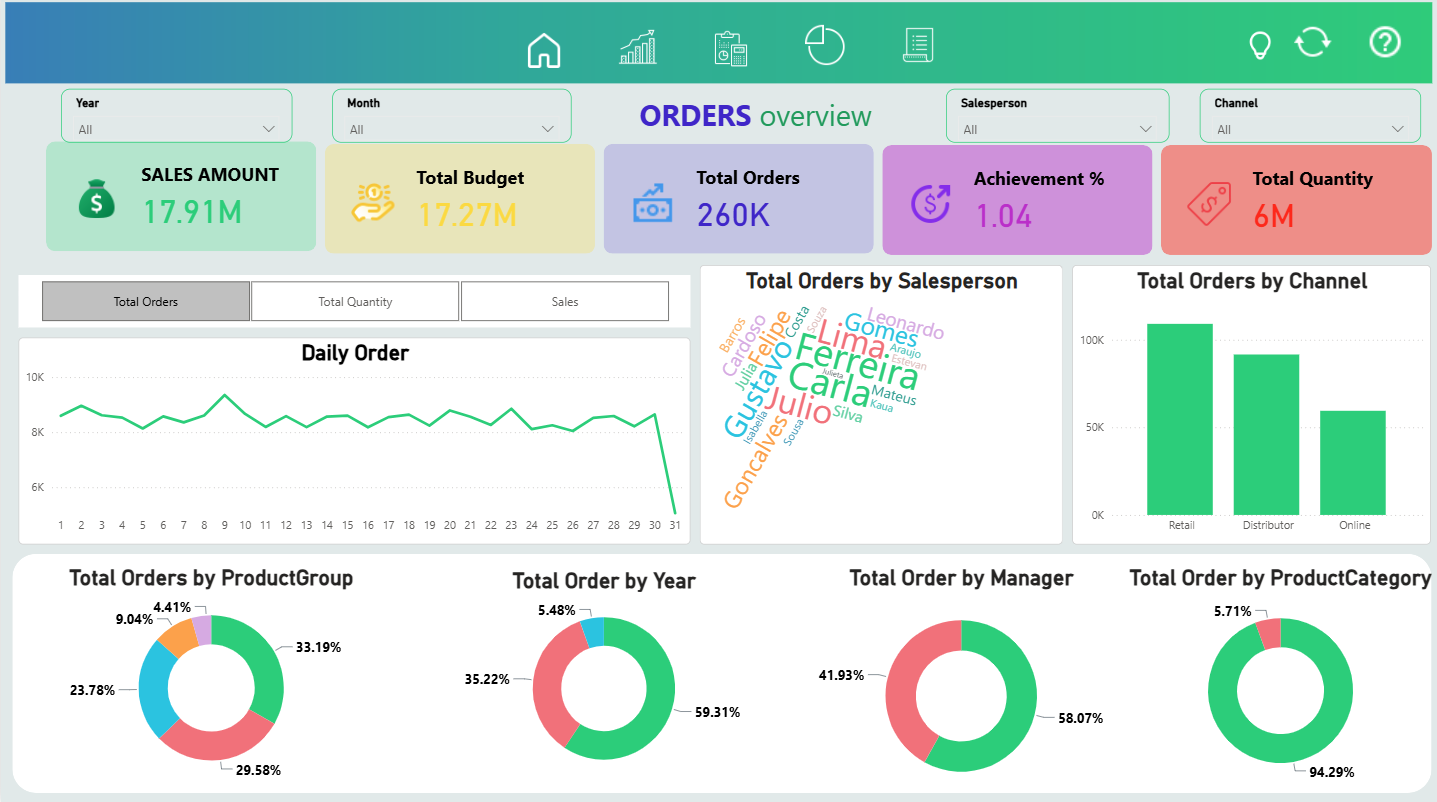

This screenshot's page, from the dashboard's own definition file:
{"tool":"powerbi","page":{"name":"Orders Analysis","canvas":[1600,900],"ordinal":4},"visuals":[{"type":"shape","box":[12,622.4,1580.1,266.3],"z":0},{"type":"group","id":"g1","title":"Group 1","box":[49.7,163.1,301.8,122.5],"z":1000},{"type":"shape","box":[49.7,163.1,301,122.5],"z":1000,"group":"g1"},{"type":"shape","box":[360.4,165.2,301,122.5],"z":1000,"group":"g2"},{"type":"image","box":[0,0,1599.4,106.5],"z":2000},{"type":"shape","box":[671,165.4,301,122.5],"z":2000,"group":"g3"},{"type":"image","box":[72.8,195.1,65.7,67.5],"z":2000,"group":"g1"},{"type":"group","id":"g2","title":"Group 2","box":[360.4,165.2,301,122.5],"z":3000},{"type":"shape","box":[980.9,166.7,301,122.5],"z":3000,"group":"g4"},{"type":"cardVisual","title":"SALES","fields":{"Data":["Sum(SalesData.SalesAmount)"]},"box":[138.5,163.1,213,122.5],"z":3500,"group":"g1"},{"type":"group","id":"g3","title":"Group 3","box":[671,165.4,301,122.5],"z":4000},{"type":"shape","box":[1290.8,166.8,301.8,122.5],"z":4000,"group":"g5"},{"type":"group","id":"g4","title":"Group 4","box":[980.9,166.7,301,122.5],"z":5000},{"type":"image","box":[382.4,197.2,62.6,67.5],"z":5000,"group":"g2"},{"type":"group","id":"g5","title":"Group 5","box":[1290.8,166.8,301.8,122.5],"z":6000},{"type":"image","box":[695,197.4,62.6,67.5],"z":6000,"group":"g3"},{"type":"slicer","fields":{"Values":["Calender Table.Year"]},"box":[66.8,104.7,257.4,60.4],"z":7000},{"type":"image","box":[1002.9,198.7,62.6,67.5],"z":7000,"group":"g4"},{"type":"slicer","fields":{"Values":["Calender Table.Month"]},"box":[368.6,104.7,266.3,60.4],"z":8000},{"type":"image","box":[1312.8,198.8,62.7,67.5],"z":8000,"group":"g5"},{"type":"cardVisual","title":"SALES","fields":{"Data":["#Measure.Total Budget"]},"box":[445,165.2,202.9,122.5],"z":9000,"group":"g2"},{"type":"donutChart","fields":{"Category":["Product.ProductGroup"],"Y":["#Measure.Total Orders"]},"box":[19.5,634.4,429.4,246.9],"z":9000},{"type":"slicer","fields":{"Values":["Salesperson.Salesperson"]},"box":[1052,104.7,248.5,60.4],"z":10000},{"type":"cardVisual","title":"SALES","fields":{"Data":["#Measure.Total Orders"]},"box":[757.5,165.4,202.9,122.5],"z":10000,"group":"g3"},{"type":"cardVisual","title":"SALES","fields":{"Data":["#Measure.Budget Achievement %"]},"box":[1065.5,166.7,202.9,122.5],"z":11000,"group":"g4"},{"type":"lineChart","title":"Daily Order","fields":{"Category":["Calender Table.Day"],"Y":["#Measure.Total Orders"]},"box":[19.5,381.5,748.1,230.4],"z":11000},{"type":"slicer","fields":{"Values":["SalesData.Channel"]},"box":[1334.3,104.7,246.7,60.4],"z":12000},{"type":"cardVisual","title":"SALES","fields":{"Data":["#Measure.Total Quantity"]},"box":[1375.6,166.8,203.4,122.5],"z":12000,"group":"g5"},{"type":"donutChart","title":"Total Order  by Year","fields":{"Category":["Calender Table.Year"],"Y":["#Measure.Total Orders"]},"box":[453.4,637.4,435.4,242.4],"z":13000},{"type":"textbox","box":[634.2,107.8,410.9,63.9],"z":14000},{"type":"donutChart","title":"Total Order by Manager","fields":{"Y":["#Measure.Total Orders"],"Category":["Salesperson.Manager"]},"box":[893.3,634.4,351.6,264.8],"z":15000},{"type":"donutChart","title":"Total Order by ProductCategory","fields":{"Y":["#Measure.Total Orders"],"Category":["Product.ProductCategory"]},"box":[1249.4,634.4,350.1,252.9],"z":16000},{"type":"WordCloud1447959067750","fields":{"Category":["Salesperson.Salesperson"],"Values":["#Measure.Total Orders"]},"box":[778.1,300.7,404,311.2],"z":17000},{"type":"columnChart","fields":{"Y":["#Measure.Total Orders"],"Category":["SalesData.Channel"]},"box":[1192.5,300.7,399.5,311.2],"z":18000},{"type":"image","box":[1516,26.6,51.5,51.5],"z":19000},{"type":"image","box":[1375.7,30.2,51.5,51.5],"z":20000},{"type":"image","box":[1434.3,26.6,51.5,51.5],"z":21000},{"type":"image","box":[568.1,33.7,74,58],"z":22000},{"type":"image","box":[671.9,27.7,74,58],"z":23000},{"type":"image","box":[775.1,31.4,74.8,58.4],"z":24000},{"type":"image","box":[879.8,26.9,74.8,58.4],"z":25000},{"type":"image","box":[984.5,26.9,74.8,58.4],"z":26000},{"type":"slicer","fields":{"Values":["Parameter.Parameter"]},"box":[19.5,311.2,748.1,58.4],"z":26001}]}

Visuals, with their boxes in screenshot pixels (x1, y1, x2, y2), scaled from the page's 1600x900 canvas onto the 1437x802 screenshot:
shape: locate(11, 555, 1430, 792)
"Group 1" group: locate(45, 145, 316, 255)
shape: locate(45, 145, 315, 255)
shape: locate(324, 147, 594, 256)
image: locate(0, 0, 1436, 95)
shape: locate(603, 147, 873, 257)
image: locate(65, 174, 124, 234)
"Group 2" group: locate(324, 147, 594, 256)
shape: locate(881, 149, 1151, 258)
"SALES" cardVisual: locate(124, 145, 316, 255)
"Group 3" group: locate(603, 147, 873, 257)
shape: locate(1159, 149, 1430, 258)
"Group 4" group: locate(881, 149, 1151, 258)
image: locate(343, 176, 400, 236)
"Group 5" group: locate(1159, 149, 1430, 258)
image: locate(624, 176, 680, 236)
slicer - Calender Table.Year: locate(60, 93, 291, 147)
image: locate(901, 177, 957, 237)
slicer - Calender Table.Month: locate(331, 93, 570, 147)
image: locate(1179, 177, 1235, 237)
"SALES" cardVisual: locate(400, 147, 582, 256)
donutChart - Product.ProductGroup x #Measure.Total Orders: locate(18, 565, 403, 785)
slicer - Salesperson.Salesperson: locate(945, 93, 1168, 147)
"SALES" cardVisual: locate(680, 147, 863, 257)
"SALES" cardVisual: locate(957, 149, 1139, 258)
"Daily Order" lineChart: locate(18, 340, 689, 545)
slicer - SalesData.Channel: locate(1198, 93, 1420, 147)
"SALES" cardVisual: locate(1235, 149, 1418, 258)
"Total Order  by Year" donutChart: locate(407, 568, 798, 784)
textbox: locate(570, 96, 939, 153)
"Total Order by Manager" donutChart: locate(802, 565, 1118, 801)
"Total Order by ProductCategory" donutChart: locate(1122, 565, 1436, 791)
WordCloud1447959067750 - Salesperson.Salesperson x #Measure.Total Orders: locate(699, 268, 1062, 545)
columnChart - #Measure.Total Orders x SalesData.Channel: locate(1071, 268, 1430, 545)
image: locate(1362, 24, 1408, 70)
image: locate(1236, 27, 1282, 73)
image: locate(1288, 24, 1334, 70)
image: locate(510, 30, 577, 82)
image: locate(603, 25, 670, 76)
image: locate(696, 28, 763, 80)
image: locate(790, 24, 857, 76)
image: locate(884, 24, 951, 76)
slicer - Parameter.Parameter: locate(18, 277, 689, 329)
